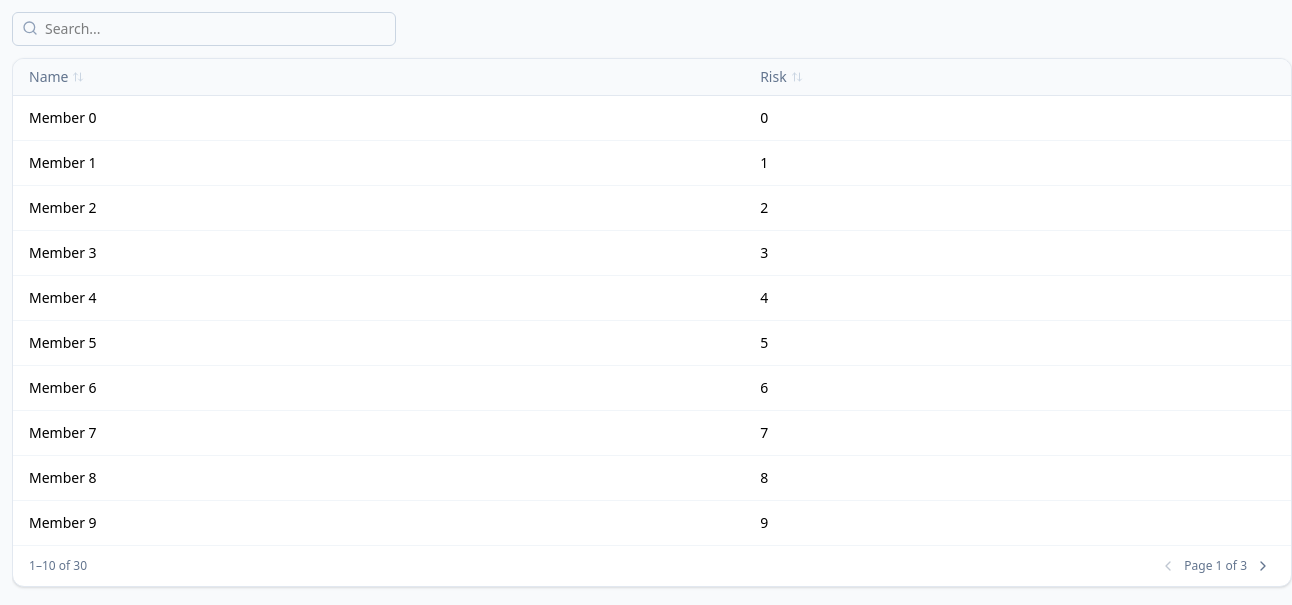
DataTable › filters on the search box and reports the filtered count
The width and height of the screenshot is (1292, 605).
Type "Member 2" into the field labelled "Search...".
click(204, 29); type("Member 2")  # box [12,12,396,46]
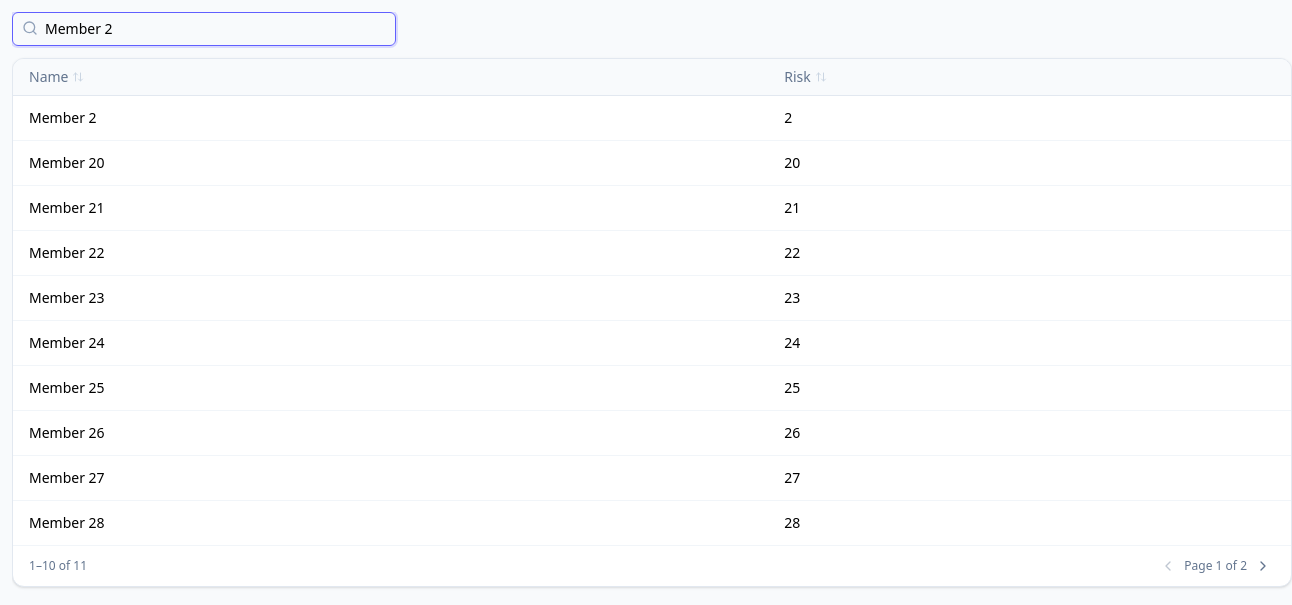
Now the text "1–10 of 11" is shown, box [29,558,87,574]
